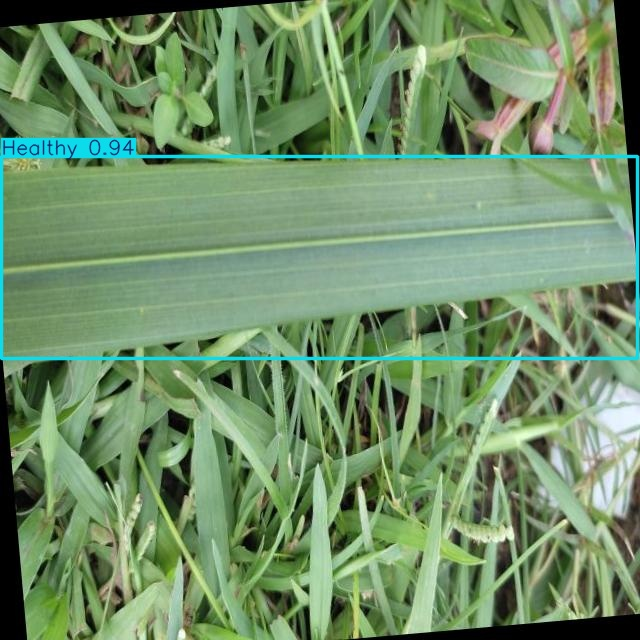Healthy: (1, 156, 638, 359)
